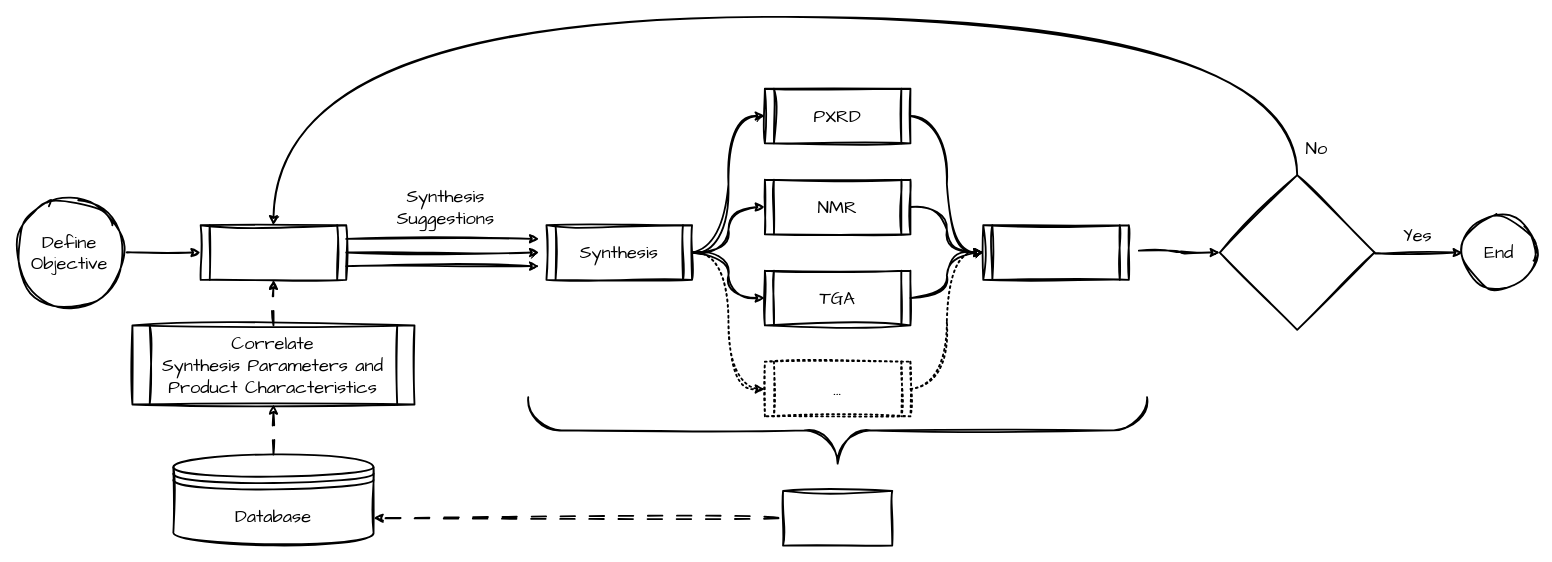
Some shapes in this 1552 by 562 pixel diagram are drawn without their labels. The centre of each missing label's shape, as x and y in pixels:
"Analysis" goes at (1055,252).
"JXDL" goes at (837,518).
"Objective reached?" goes at (1296,252).
"Synthesis Planning" goes at (273,252).
